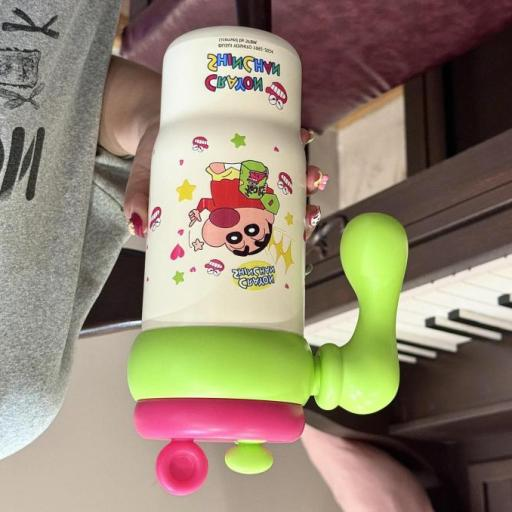cup: (232, 262, 274, 290)
